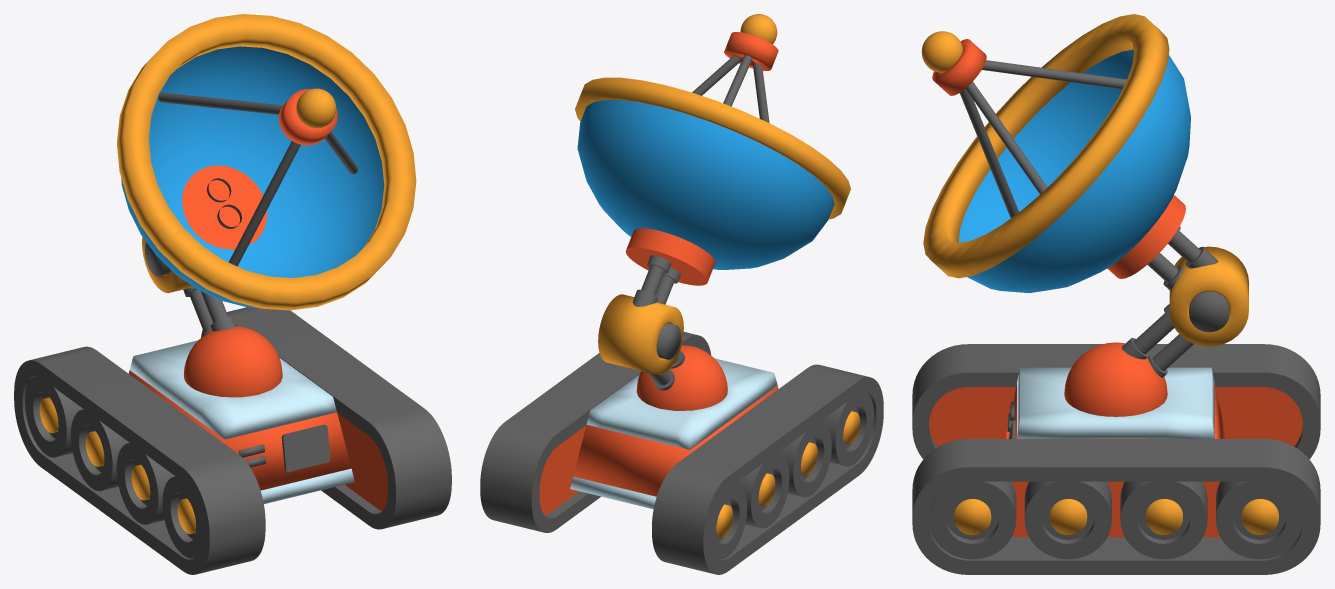
The model's file is rover.glb.
3 views of the same model, side by side, from view 1: azimuth 30°, elevation 25°; view 2: azimuth 150°, elevation 25°; view 3: azimuth 270°, elevation 25° (orthographic). The views are drawn at different scales.
Parts seen in each view (by area): view 1: Plane, Sphere, Cylinder.010, Cylinder.002, Cube.001, Roundcube, Cylinder.012, Cube, Plane.002, Cylinder.011, Plane.001, Cylinder.009 (+5 smaller); view 2: Plane, Sphere, Cylinder.002, Cylinder.010, Cube.001, Cube, Cylinder, Roundcube, Cylinder.012, Plane.002, Cylinder.011, Cylinder.013 (+6 smaller); view 3: Plane, Sphere, Cylinder.010, Cylinder.002, Plane.002, Cube.001, Roundcube, Cylinder, Cylinder.011, Cylinder.012, Cylinder.007, Cylinder.013 (+8 smaller).
Boxes of the visible parts, <box> form: Plane: <box>14,307,451,574</box>; Sphere: <box>121,46,384,308</box>; Cylinder.010: <box>117,14,416,310</box>; Cylinder.002: <box>25,376,201,558</box>; Cube.001: <box>129,340,336,439</box>; Roundcube: <box>183,326,282,397</box>; Cylinder.012: <box>182,165,267,249</box>; Cube: <box>128,370,351,490</box>; Plane.002: <box>337,413,387,510</box>; Cylinder.011: <box>39,397,196,534</box>; Plane.001: <box>281,424,330,471</box>; Cylinder.009: <box>228,141,300,266</box>; Plane: <box>480,332,883,574</box>; Sphere: <box>577,100,834,269</box>; Cylinder.002: <box>711,391,873,559</box>; Cylinder.010: <box>575,77,850,219</box>; Cube.001: <box>586,358,777,449</box>; Cube: <box>573,386,778,496</box>; Cylinder: <box>598,294,683,375</box>; Roundcube: <box>636,345,727,410</box>; Cylinder.012: <box>625,228,715,285</box>; Plane.002: <box>539,425,586,515</box>; Cylinder.011: <box>716,411,860,537</box>; Cylinder.013: <box>724,32,778,70</box>; Plane: <box>912,344,1320,574</box>; Sphere: <box>958,49,1190,293</box>; Cylinder.010: <box>923,14,1169,278</box>; Cylinder.002: <box>929,481,1302,559</box>; Plane.002: <box>929,387,1302,537</box>; Cube.001: <box>1017,367,1214,438</box>; Roundcube: <box>1064,342,1167,416</box>; Cylinder: <box>1169,246,1248,346</box>; Cylinder.011: <box>954,499,1278,535</box>; Cylinder.012: <box>1107,195,1185,278</box>; Cylinder.007: <box>982,60,1127,88</box>; Cylinder.013: <box>932,39,986,95</box>.
Size of the model in its own units: 2.93 by 4.76 by 3.67.
